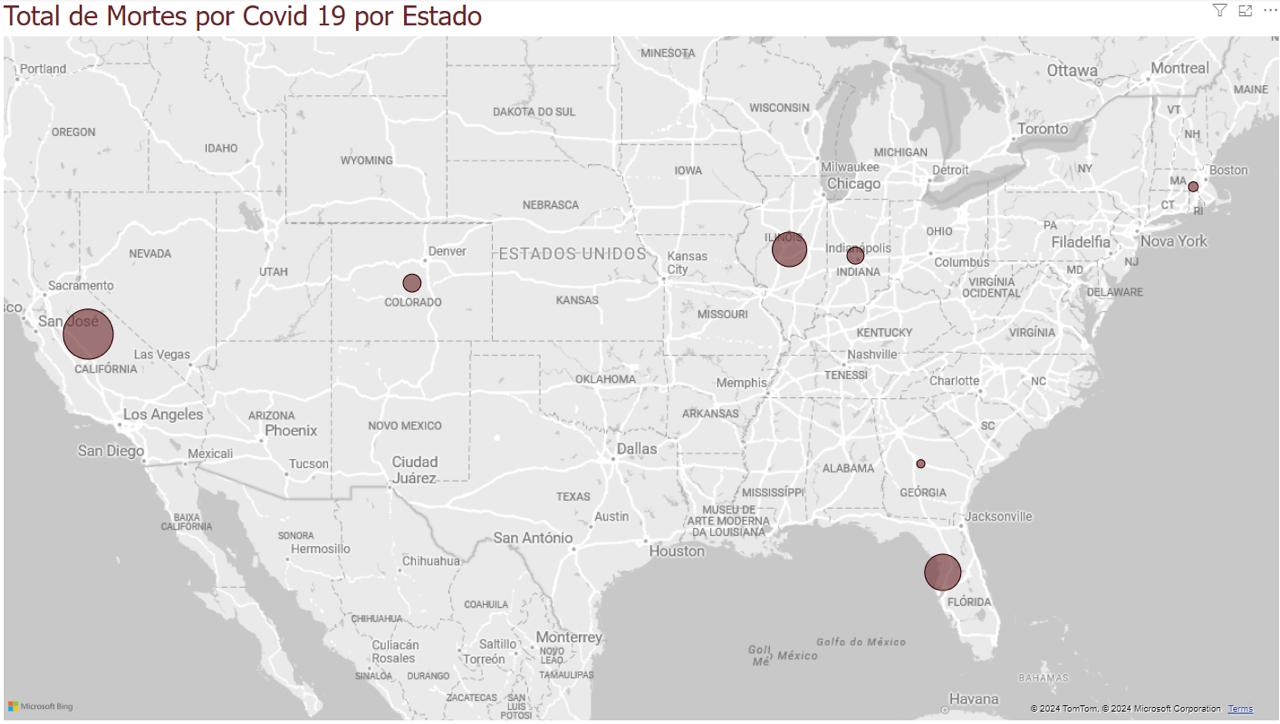

The page's visual inventory and layout, read from the dashboard file:
{"tool":"powerbi","page":{"name":"Total_Covid","canvas":[1280,720],"ordinal":0},"visuals":[{"type":"map","title":"Total de Mortes por Covid 19 por Estado","fields":{"Category":["city_level_cases_and_deaths.state"],"Size":["Sum(city_level_cases_and_deaths.deaths_total)"]},"box":[9.5,0,1270.5,720],"z":0}]}

Visuals, with their boxes in screenshot pixels (x1, y1, x2, y2), scaled from the page's 1280x720 canvas onto the 1280x724 screenshot:
"Total de Mortes por Covid 19 por Estado" map: <region>10, 0, 1279, 723</region>
